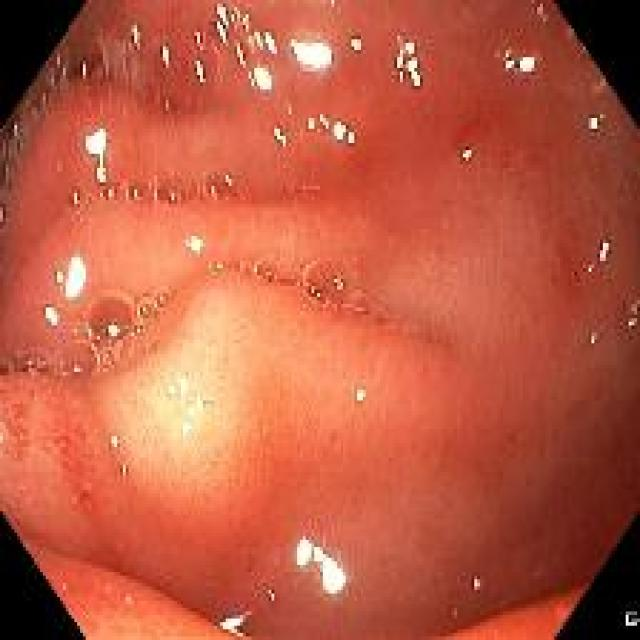bubbles: (304, 249, 358, 315), (252, 248, 303, 293), (82, 296, 134, 335), (201, 166, 243, 208), (150, 177, 197, 210), (55, 339, 98, 373), (75, 50, 111, 84), (14, 346, 52, 378), (1, 138, 23, 188), (137, 287, 167, 319), (51, 49, 74, 84), (124, 180, 148, 208), (99, 177, 123, 204), (99, 341, 117, 376), (368, 302, 389, 331), (12, 119, 28, 150), (227, 255, 248, 274), (120, 49, 131, 84), (66, 188, 84, 209), (39, 84, 57, 105), (209, 254, 226, 276), (158, 92, 175, 114), (353, 294, 370, 316), (1, 197, 10, 236), (0, 354, 15, 377), (84, 183, 99, 205), (411, 323, 426, 343), (392, 314, 406, 334), (133, 318, 146, 335), (148, 339, 161, 354)
saturation: (121, 319, 237, 475)
specularity: (294, 530, 348, 600), (390, 30, 427, 90), (288, 37, 334, 75), (82, 131, 113, 181), (61, 248, 86, 297), (180, 392, 205, 437), (211, 5, 232, 48), (250, 60, 274, 96), (189, 52, 212, 87), (217, 613, 245, 638), (269, 122, 290, 150), (158, 39, 177, 69), (128, 21, 146, 52), (165, 372, 190, 394), (261, 26, 279, 56), (333, 123, 355, 146), (40, 302, 59, 328), (345, 30, 364, 56), (111, 458, 133, 480), (232, 39, 248, 69), (316, 104, 330, 136), (582, 112, 601, 135), (518, 53, 538, 74), (105, 429, 123, 452), (303, 111, 318, 138), (190, 25, 206, 50), (185, 231, 202, 254), (597, 239, 612, 265), (105, 320, 123, 340), (500, 47, 514, 72), (262, 266, 281, 284), (308, 283, 326, 302), (458, 144, 474, 164), (50, 263, 64, 285), (68, 188, 82, 208), (333, 274, 347, 292), (68, 363, 86, 377), (79, 59, 92, 78), (471, 577, 485, 594), (221, 172, 234, 188), (207, 183, 218, 201), (584, 261, 597, 276), (353, 389, 366, 404), (584, 328, 596, 344), (138, 300, 150, 316), (535, 5, 547, 19), (105, 186, 116, 201), (152, 184, 160, 204), (627, 303, 639, 316), (167, 188, 176, 205), (158, 291, 167, 308), (627, 317, 637, 332), (39, 89, 48, 105), (24, 357, 36, 369), (131, 186, 142, 199), (214, 259, 224, 272), (251, 262, 260, 274), (267, 589, 277, 599), (123, 186, 131, 198)
